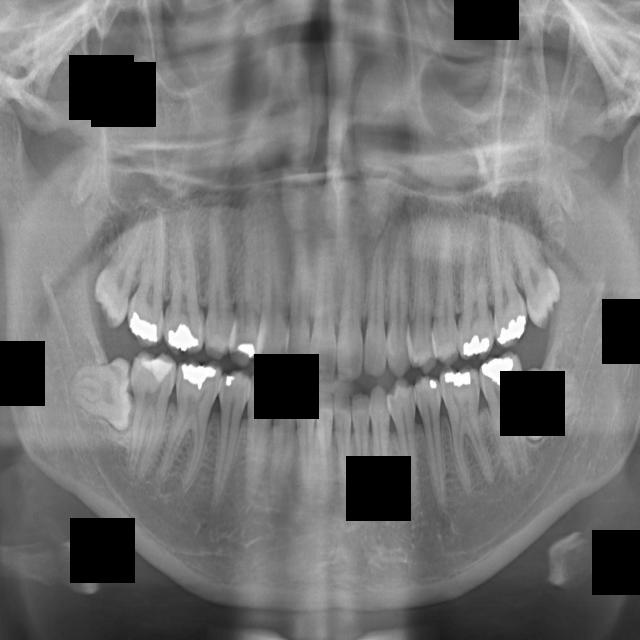3M ESPE Implant: (86, 216, 146, 331)
AGS Medikal Implant: (477, 349, 534, 486)
AMerOss Implant: (438, 360, 495, 494)
Amalgam filling: (126, 207, 166, 348)
Anthogyr Implant: (413, 372, 455, 515)
Bicon Implant: (388, 377, 426, 514)
BioHorizons Implant: (368, 383, 398, 524)
BioLife Implant: (352, 392, 372, 508)
Biomet 3i Implant: (332, 388, 357, 506)
Blue Sky Bio Implant: (315, 389, 337, 500)
Camlog Implant: (296, 385, 317, 502)
Caries: (363, 218, 390, 379)
Composite filling: (265, 378, 300, 516)
Cowellmedi Implant: (230, 368, 279, 511)
Crown: (197, 365, 251, 516)
DENTSPLY Implant: (161, 216, 205, 355)
Dentatus Implant: (211, 410, 211, 411)
Dentis Implant: (124, 348, 177, 486)
Dentium Implant: (66, 356, 132, 432)
Euroteknika Implant: (204, 203, 236, 361)
Filling: (231, 194, 262, 368)
Frontier Implant: (259, 198, 289, 373)
Hiossen Implant: (387, 210, 413, 377)
Implant: (310, 228, 340, 383)
Implant Direct: (286, 228, 315, 376)
Keystone Dental Implant: (336, 231, 364, 386)
MIS Implant: (409, 224, 437, 372)
Mandible: (427, 214, 460, 365)
Maxilla: (451, 214, 496, 360)
Megagen Implant: (482, 206, 531, 349)
Neodent Implant: (502, 187, 569, 332)
Neoss Implant: (524, 369, 581, 442)
